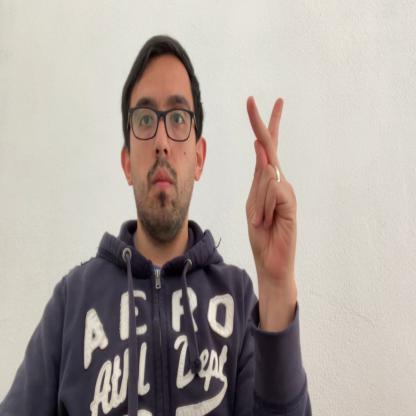P: (245, 96, 297, 276)
